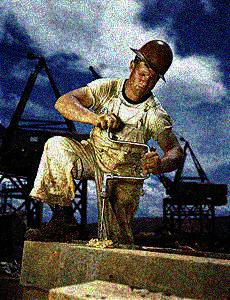helmet: (127, 39, 174, 99)
